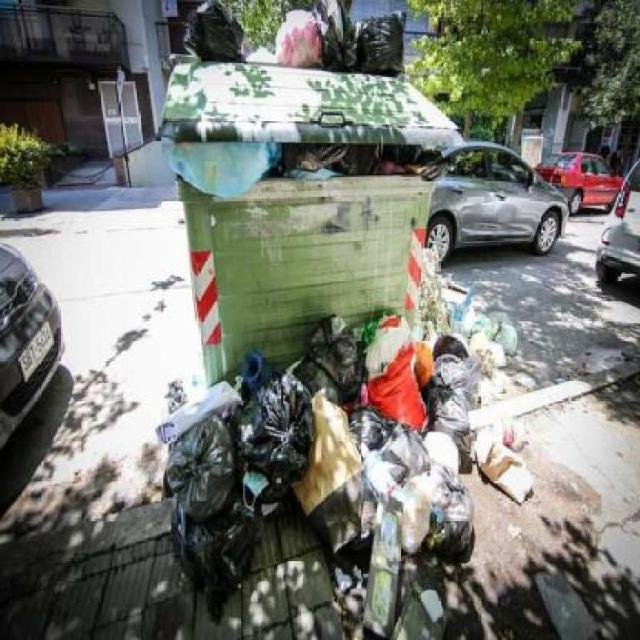garbage: (162, 346, 541, 598), (165, 122, 454, 203), (185, 0, 411, 77), (423, 263, 518, 349), (362, 603, 456, 639)
